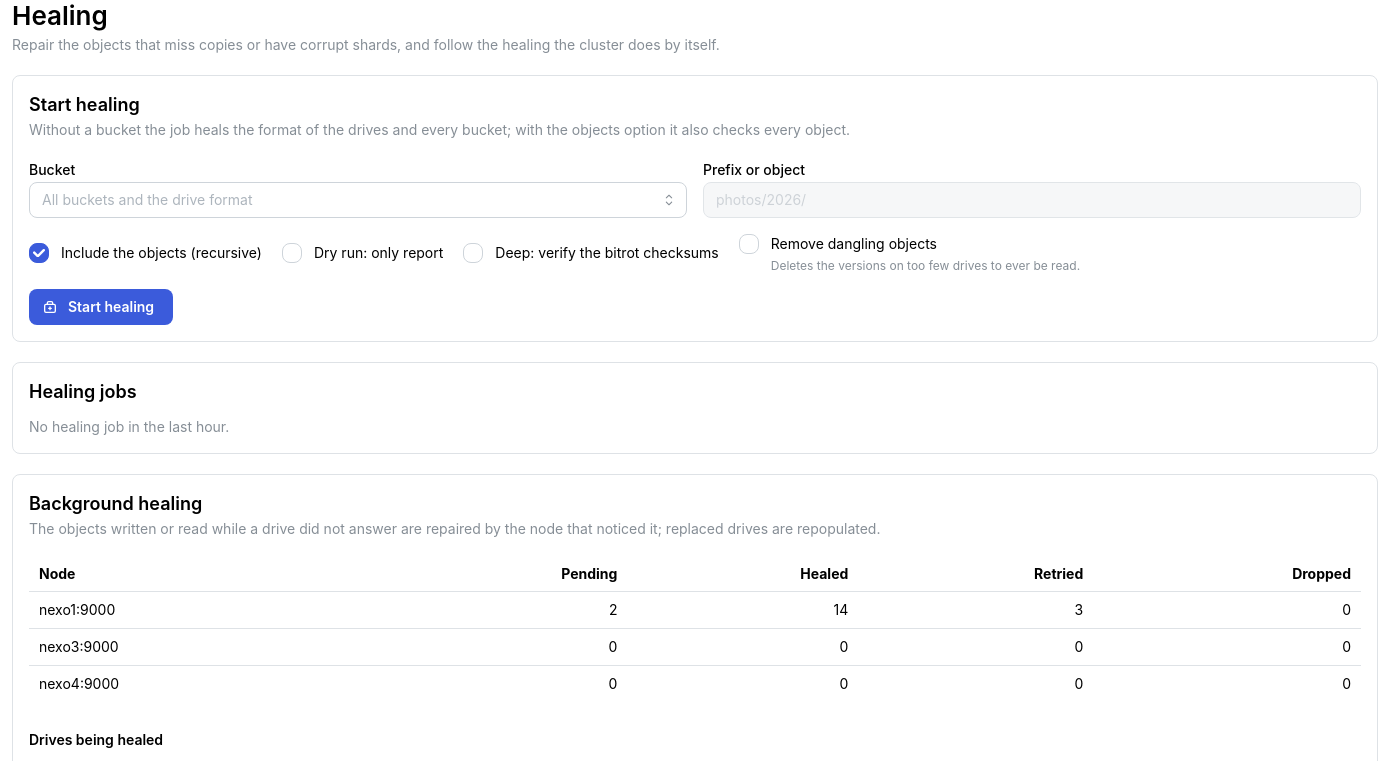
Scenario: HealingPage (D-CLU-02) › starts a job with its options and shows its results drive by drive
The image size is (1378, 761).
Expected: the text "No healing job in the last hour." is shown, [29,418,229,435]
Click the field labelled "Bucket".
click(358, 200)  # box [29,182,687,218]
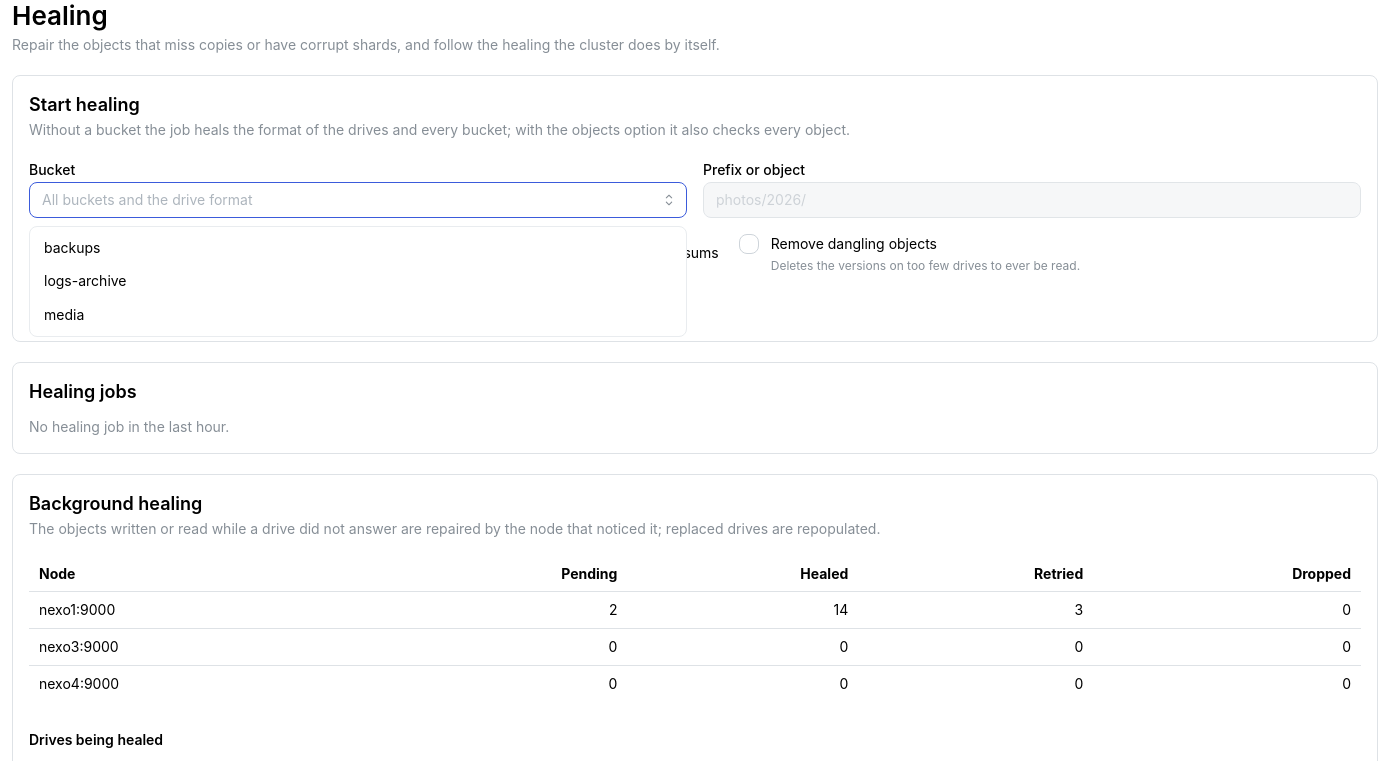
Click the option "backups".
click(72, 247)  # box [44,239,100,256]
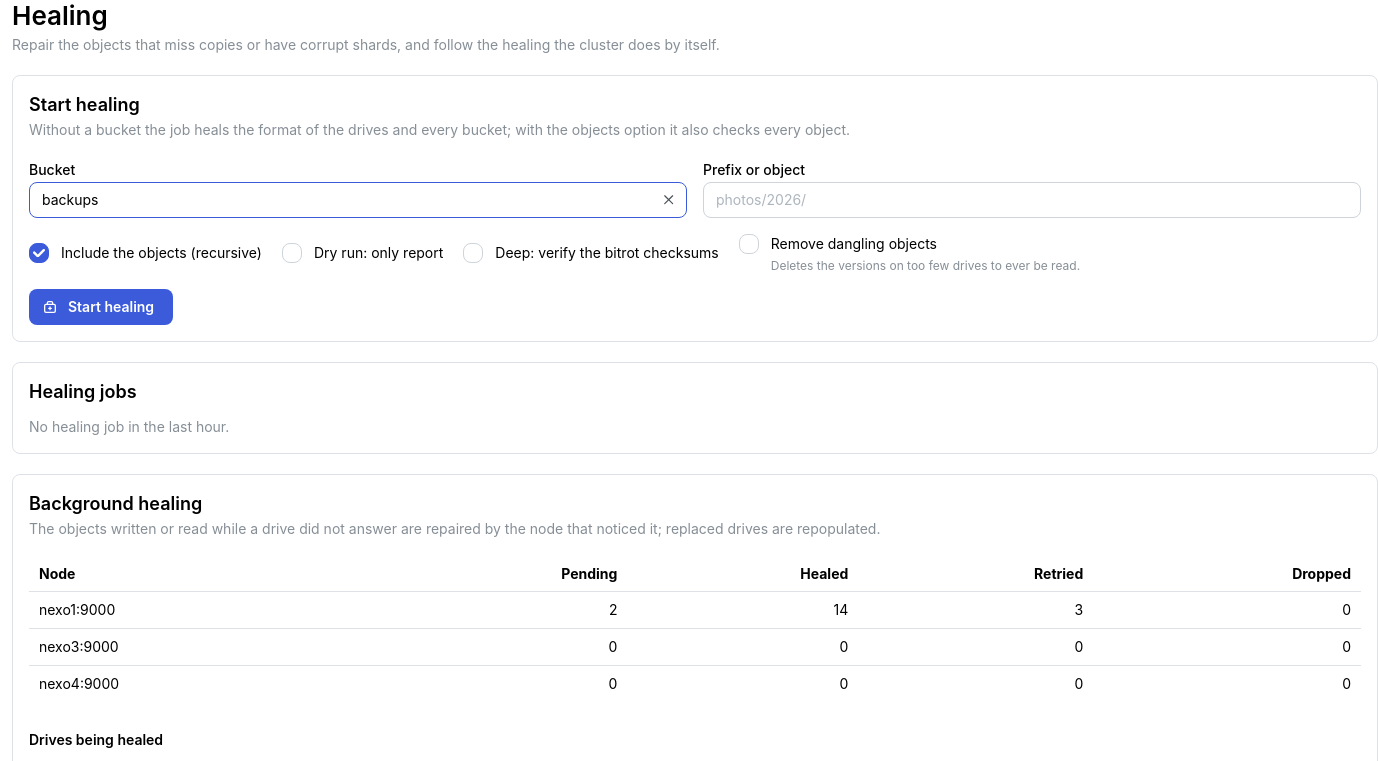
Type "2026/" into the field labelled "Prefix or object".
click(1032, 200); type("2026/")  # box [703,182,1361,218]
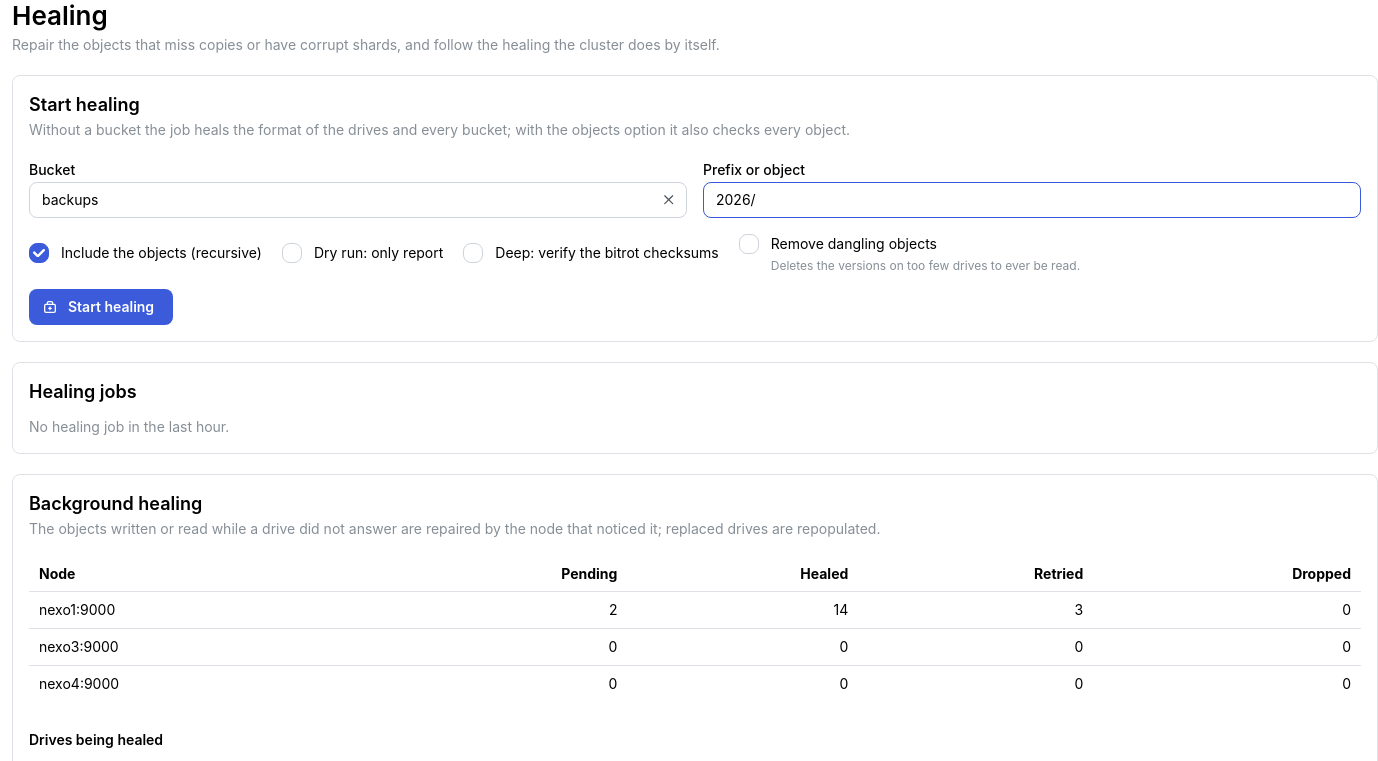
Click the checkbox labelled "Deep: verify the bitrot checksums".
click(473, 253)  # box [463,243,483,263]
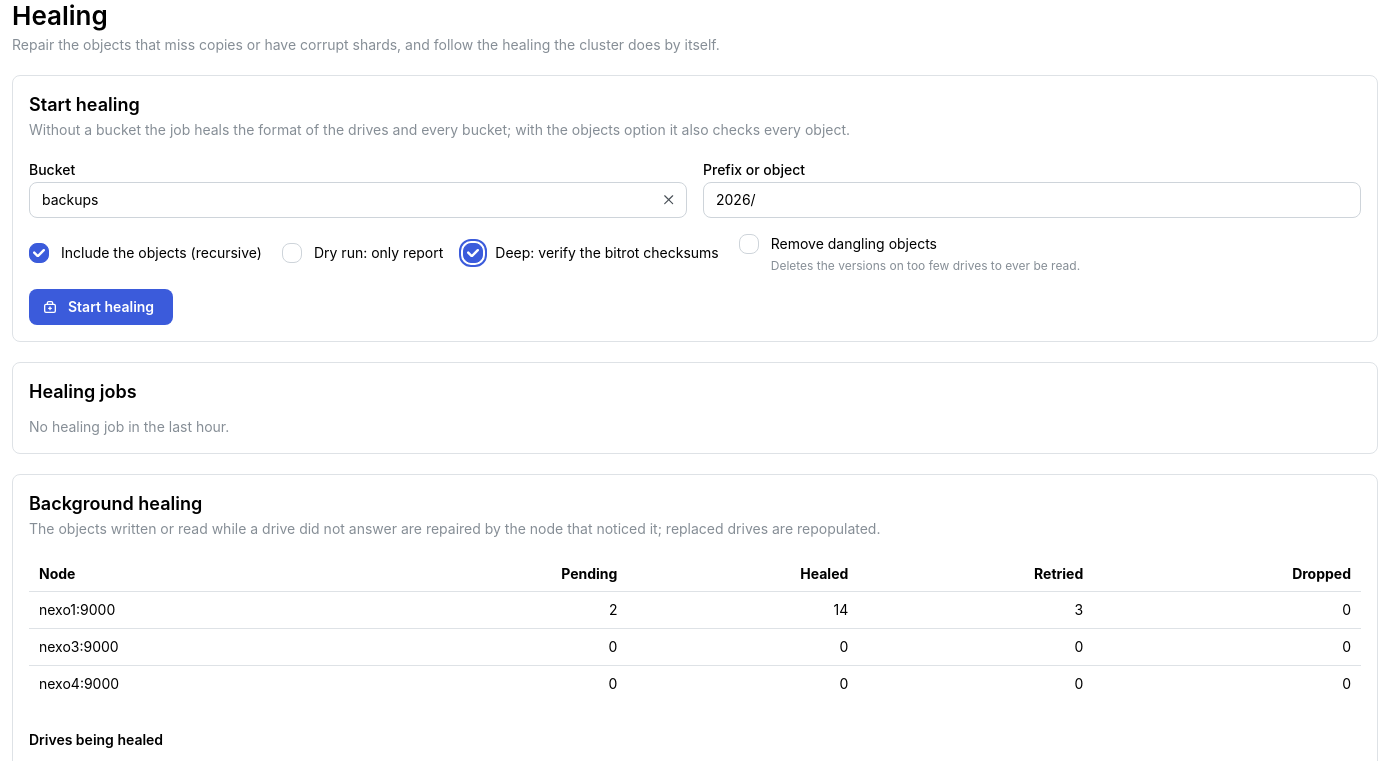
Click the button "Start healing".
click(101, 307)  # box [29,289,173,325]
(page scrolled)
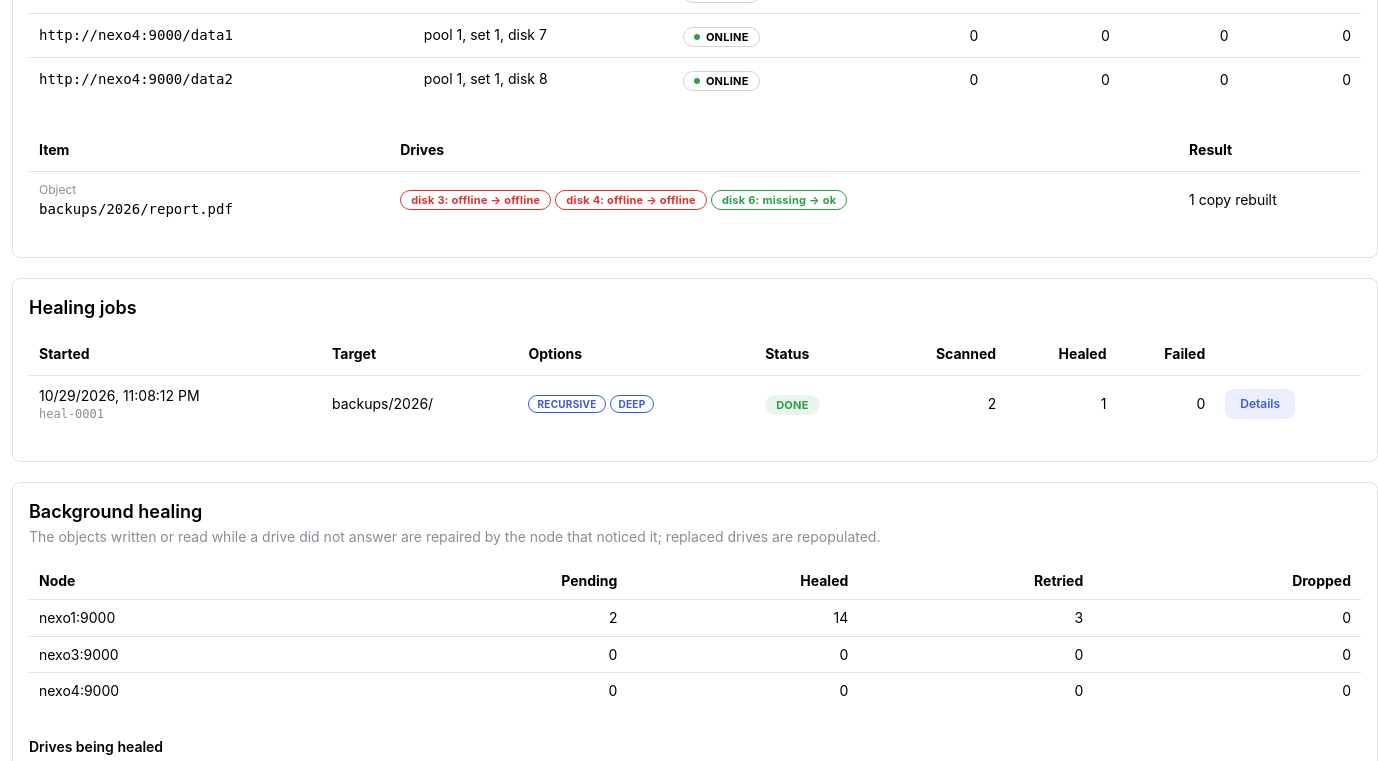
Result: the table named "Items that needed healing" shows "backups/2026/report.pdf" at [39,201,233,217]
Result: the table named "Items that needed healing" shows "disk 6: missing → ok" at [722,193,836,207]
Result: the table named "Items that needed healing" shows "disk 3: offline → offline" at [411,193,540,207]
